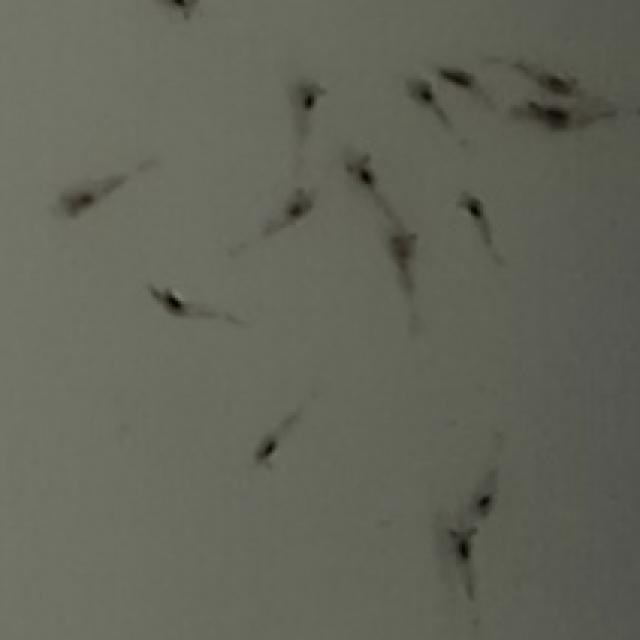shrimp-seed: (530, 67, 592, 111), (515, 102, 576, 142), (53, 176, 102, 225), (376, 226, 424, 268), (245, 434, 289, 478), (148, 279, 192, 323), (339, 154, 385, 196), (451, 187, 499, 227), (290, 80, 332, 122), (464, 484, 502, 528), (408, 82, 454, 118), (281, 184, 318, 226), (437, 63, 487, 94), (445, 526, 485, 564)
